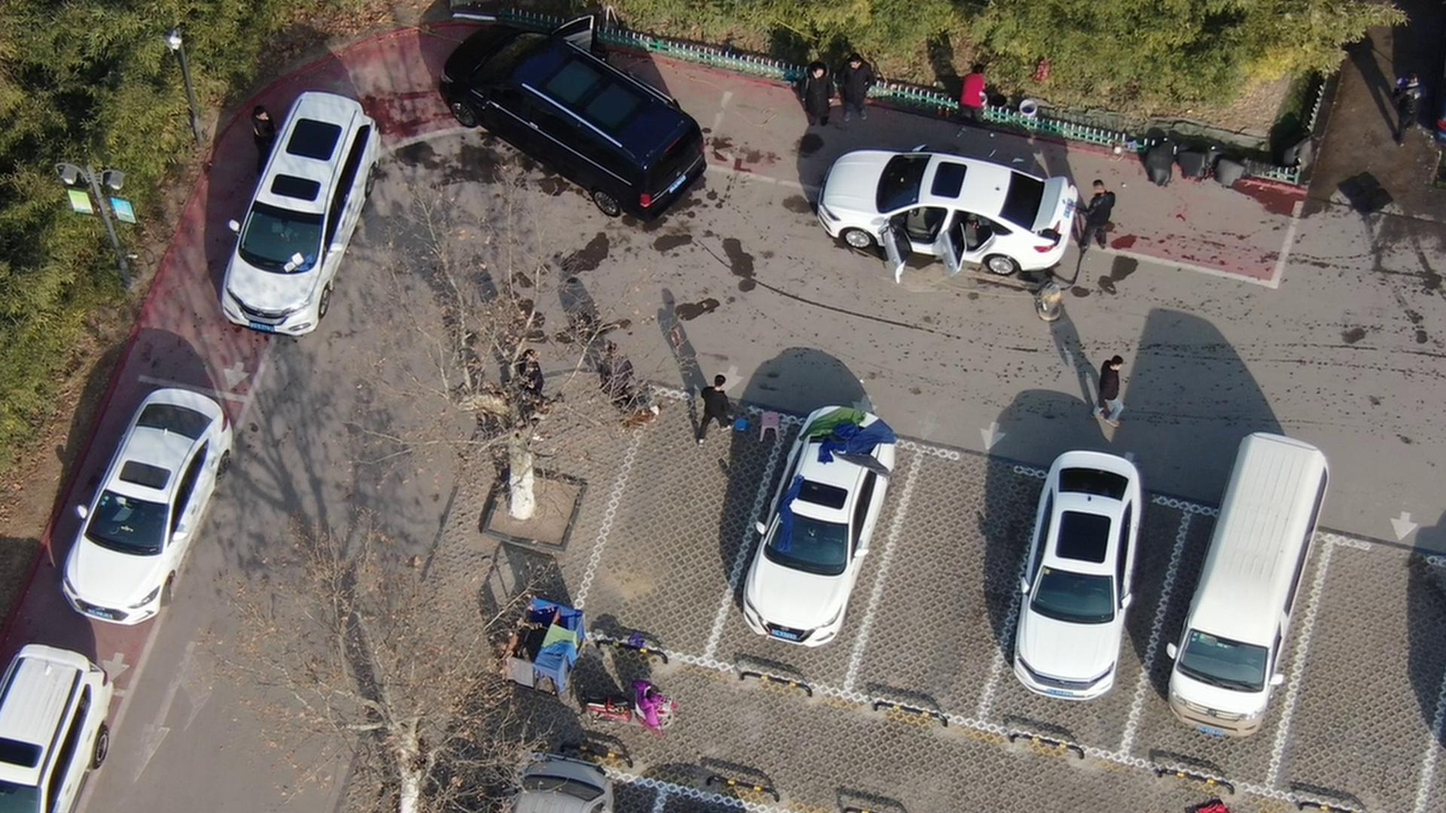class_2: (530, 343, 570, 419)
human: (600, 340, 647, 412), (1078, 176, 1122, 250), (1390, 69, 1431, 148), (843, 46, 886, 118), (696, 375, 737, 450), (807, 56, 847, 126), (1096, 353, 1131, 421), (259, 102, 293, 171), (969, 53, 999, 128)
